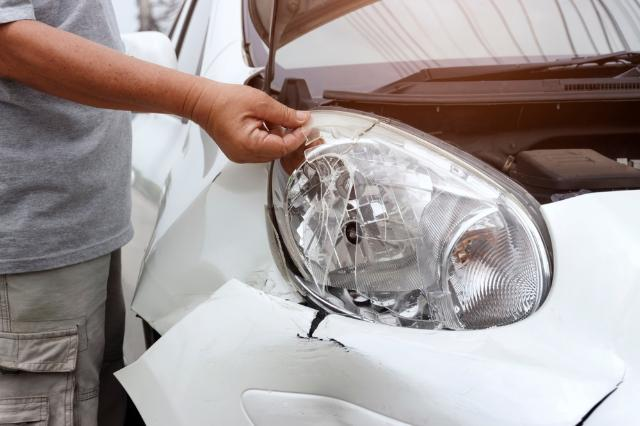crack: (574, 365, 626, 426), (296, 311, 347, 351)
dent: (194, 343, 442, 426)
lamp broken: (274, 114, 554, 329)
